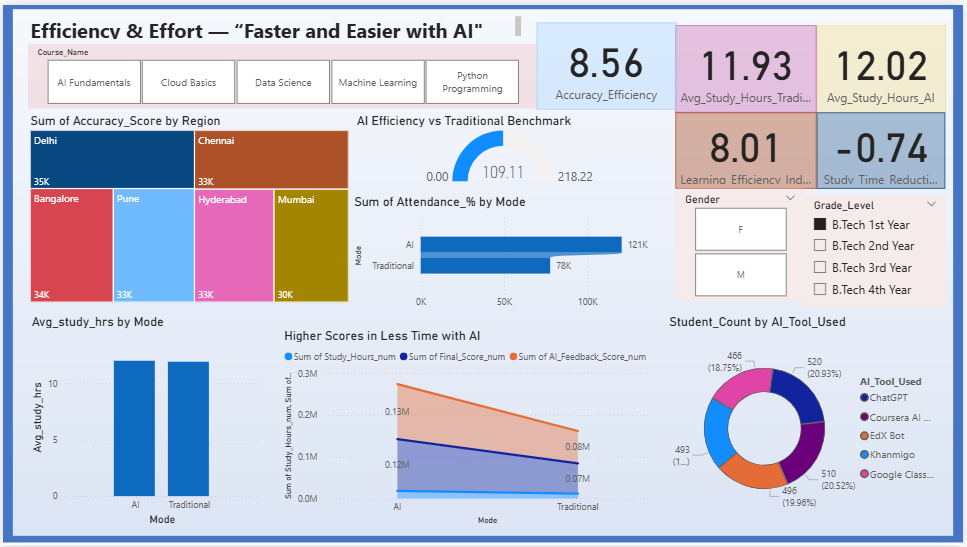

Layout of this report page (visuals, bound fields, positions):
{"tool":"powerbi","page":{"name":"Efficiency & Effort","canvas":[1280,720],"ordinal":1},"visuals":[{"type":"textbox","box":[31,15,664,35],"z":0},{"type":"card","fields":{"Values":["AI_Data.Avg_Study_Hours_AI"]},"box":[1085,26.7,171.7,116.7],"z":1000},{"type":"card","fields":{"Values":["AI_Data.Avg_Study_Hours_Traditional"]},"box":[896.7,26.7,188.3,116.7],"z":2000},{"type":"card","fields":{"Values":["AI_Data.Study_Time_Reduction_%"]},"box":[1085.7,142.9,171.4,101.4],"z":3000},{"type":"card","fields":{"Values":["AI_Data.Learning_Efficiency_Index"]},"box":[896.7,143.3,188.3,101.7],"z":4000},{"type":"card","fields":{"Values":["AI_Data.Accuracy_Efficiency"]},"box":[712,24,186,116],"z":5000},{"type":"clusteredColumnChart","fields":{"Category":["AI_Data.Mode"],"Y":["AI_Data.Avg_study_hrs"]},"box":[32.9,411.4,314.3,287.1],"z":6000},{"type":"stackedAreaChart","title":"Higher Scores in Less Time with AI","fields":{"Category":["AI_Data.Mode"],"Y":["Sum(AI_Data.Study_Hours_num)","Sum(AI_Data.Final_Score_num)","Sum(AI_Data.AI_Feedback_Score_num)"]},"box":[370,430,498,268],"z":7000},{"type":"donutChart","fields":{"Y":["AI_Data.Student_Count"],"Category":["AI_Data.AI_Tool_Used"]},"box":[882.9,411.4,374.3,287.1],"z":8000},{"type":"treemap","fields":{"Group":["AI_Data.Region"],"Values":["Sum(AI_Data.Accuracy_Score)"]},"box":[32,144,434,258],"z":9000},{"type":"slicer","fields":{"Values":["AI_Data.Course_Name"]},"box":[32.7,52,678.7,86.7],"z":9001},{"type":"barChart","fields":{"Category":["AI_Data.Mode"],"Y":["Sum(AI_Data.Attendance_%)"]},"box":[464,252,416,162],"z":9002},{"type":"slicer","fields":{"Values":["AI_Data.Grade_Level"]},"box":[1068.6,252.9,188.6,150],"z":9003},{"type":"slicer","fields":{"Values":["AI_Data.Gender"]},"box":[897,245,172,150],"z":9004},{"type":"gauge","title":"AI Efficiency vs Traditional Benchmark","fields":{"Y":["AI_Data.Learning_Efficiency_%"]},"box":[466,144,418,102],"z":9005}]}

Visuals, with their boxes in screenshot pixels (x1, y1, x2, y2), scaled from the page's 1280x720 canvas onto the 967x547 screenshot:
textbox: BBox(23, 11, 525, 38)
card - AI_Data.Avg_Study_Hours_AI: BBox(820, 20, 949, 109)
card - AI_Data.Avg_Study_Hours_Traditional: BBox(677, 20, 820, 109)
card - AI_Data.Study_Time_Reduction_%: BBox(820, 109, 950, 186)
card - AI_Data.Learning_Efficiency_Index: BBox(677, 109, 820, 186)
card - AI_Data.Accuracy_Efficiency: BBox(538, 18, 678, 106)
clusteredColumnChart - AI_Data.Mode x AI_Data.Avg_study_hrs: BBox(25, 313, 262, 531)
"Higher Scores in Less Time with AI" stackedAreaChart: BBox(280, 327, 656, 530)
donutChart - AI_Data.Student_Count x AI_Data.AI_Tool_Used: BBox(667, 313, 950, 531)
treemap - AI_Data.Region x Sum(AI_Data.Accuracy_Score): BBox(24, 109, 352, 305)
slicer - AI_Data.Course_Name: BBox(25, 40, 537, 105)
barChart - AI_Data.Mode x Sum(AI_Data.Attendance_%): BBox(351, 191, 665, 315)
slicer - AI_Data.Grade_Level: BBox(807, 192, 950, 306)
slicer - AI_Data.Gender: BBox(678, 186, 808, 300)
"AI Efficiency vs Traditional Benchmark" gauge: BBox(352, 109, 668, 187)
